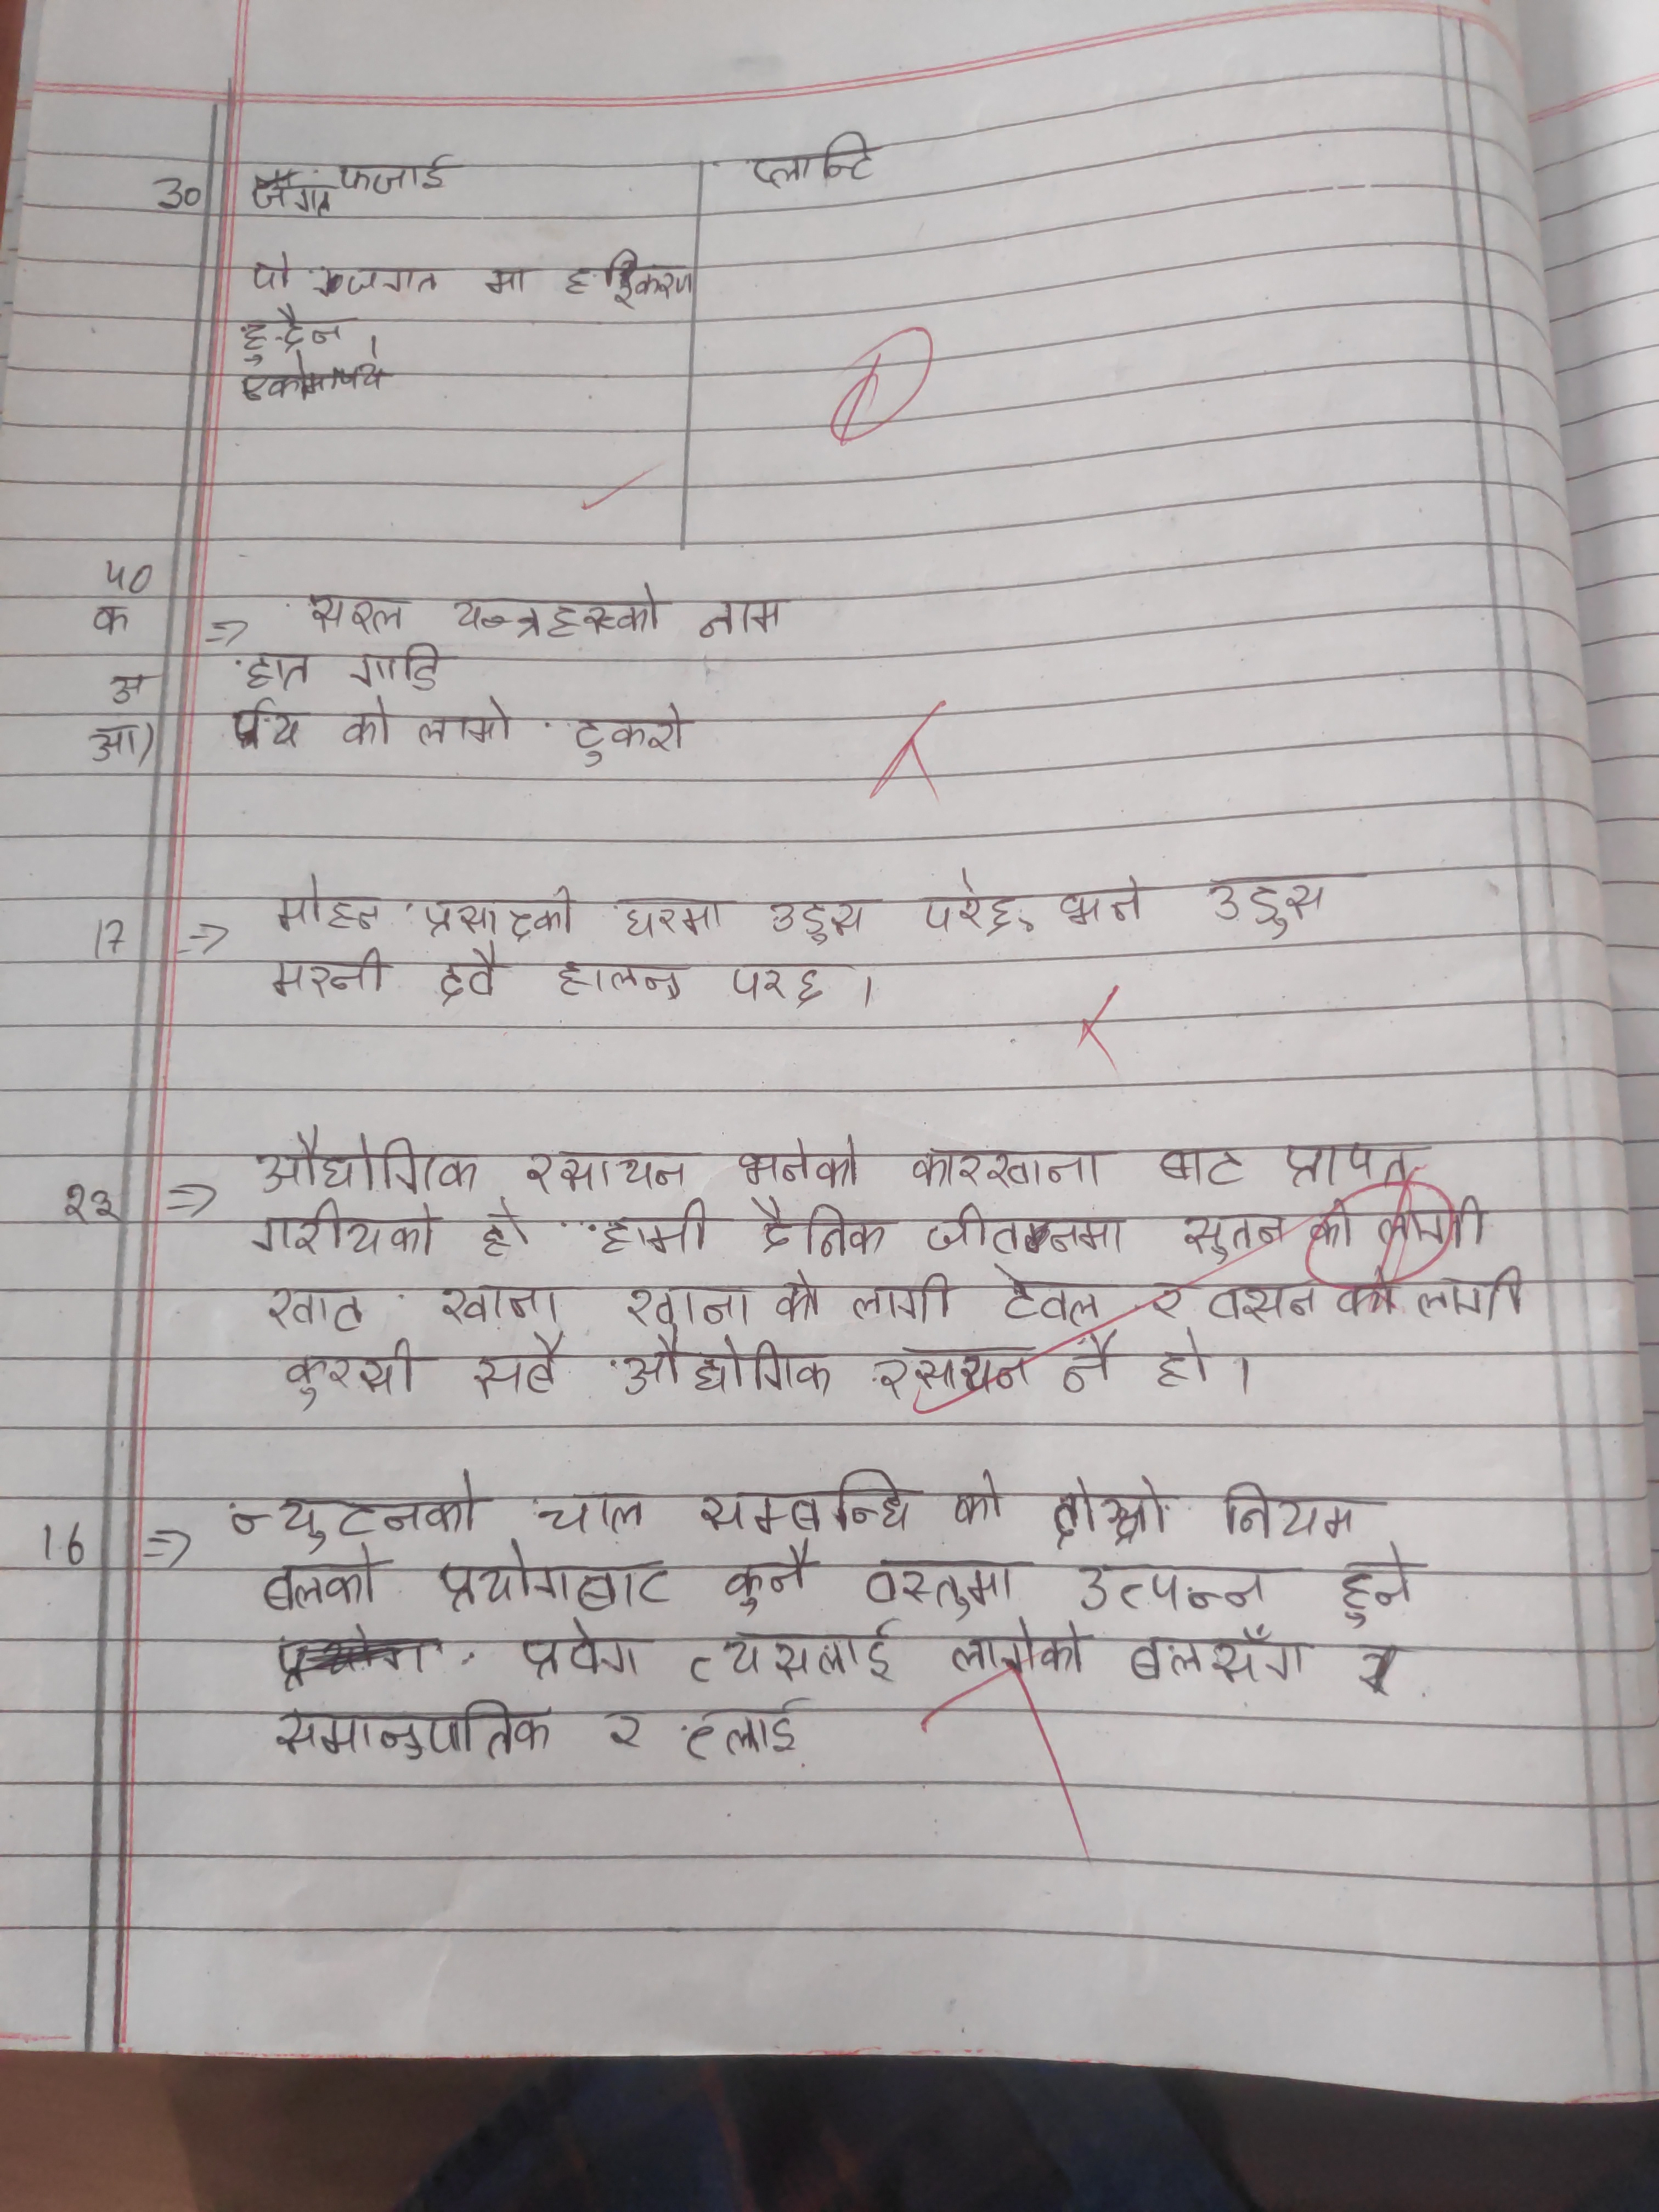text: (227, 1463, 483, 1552), (272, 1689, 551, 1766), (434, 1536, 676, 1616), (249, 1125, 484, 1198), (620, 1325, 830, 1407), (697, 1465, 918, 1538), (687, 1615, 908, 1688), (450, 577, 667, 641), (1127, 1618, 1314, 1688), (924, 1200, 1134, 1259), (1070, 1557, 1274, 1616), (251, 1198, 441, 1261), (1204, 862, 1340, 948), (279, 1332, 420, 1409), (864, 1554, 1019, 1623), (906, 1141, 1114, 1191), (1040, 1475, 1171, 1555), (422, 880, 584, 944), (746, 1191, 897, 1259), (864, 1345, 1032, 1406), (518, 1611, 652, 1686), (516, 1146, 694, 1198), (1218, 1475, 1358, 1541), (683, 1691, 810, 1763), (566, 700, 692, 770), (256, 1545, 380, 1615), (232, 352, 390, 406), (746, 131, 882, 192), (950, 1618, 1093, 1676), (558, 246, 688, 308), (594, 1193, 718, 1259), (915, 864, 1025, 937), (551, 954, 690, 1010), (1375, 1195, 1495, 1258), (993, 1261, 1103, 1329), (732, 1136, 864, 1191), (723, 1540, 817, 1618), (617, 1278, 756, 1331), (1274, 1143, 1420, 1191), (275, 873, 389, 935), (469, 1334, 566, 1406), (1333, 1543, 1413, 1629), (272, 944, 390, 1001), (235, 298, 350, 355), (1180, 1209, 1290, 1266), (608, 892, 732, 942), (1413, 1266, 1525, 1322), (410, 691, 514, 751), (845, 1271, 957, 1325), (436, 1284, 565, 1329), (725, 956, 833, 1008), (765, 899, 875, 949), (533, 1491, 650, 1538), (267, 1287, 373, 1338), (340, 152, 458, 197), (1150, 1143, 1253, 1193), (1208, 1278, 1321, 1324), (303, 592, 410, 639), (221, 693, 307, 751), (1058, 876, 1148, 930), (695, 594, 791, 641), (350, 641, 443, 690), (436, 942, 505, 1005), (1340, 1261, 1403, 1325), (1061, 1329, 1119, 1399), (246, 167, 333, 211), (1152, 1329, 1211, 1392), (951, 1467, 1004, 1536), (772, 1264, 824, 1332), (244, 643, 315, 691), (598, 1700, 652, 1764), (345, 261, 439, 296), (476, 1204, 528, 1264), (342, 695, 392, 756), (1309, 1195, 1358, 1249), (1138, 1278, 1194, 1322), (249, 249, 300, 294), (479, 261, 535, 300)
